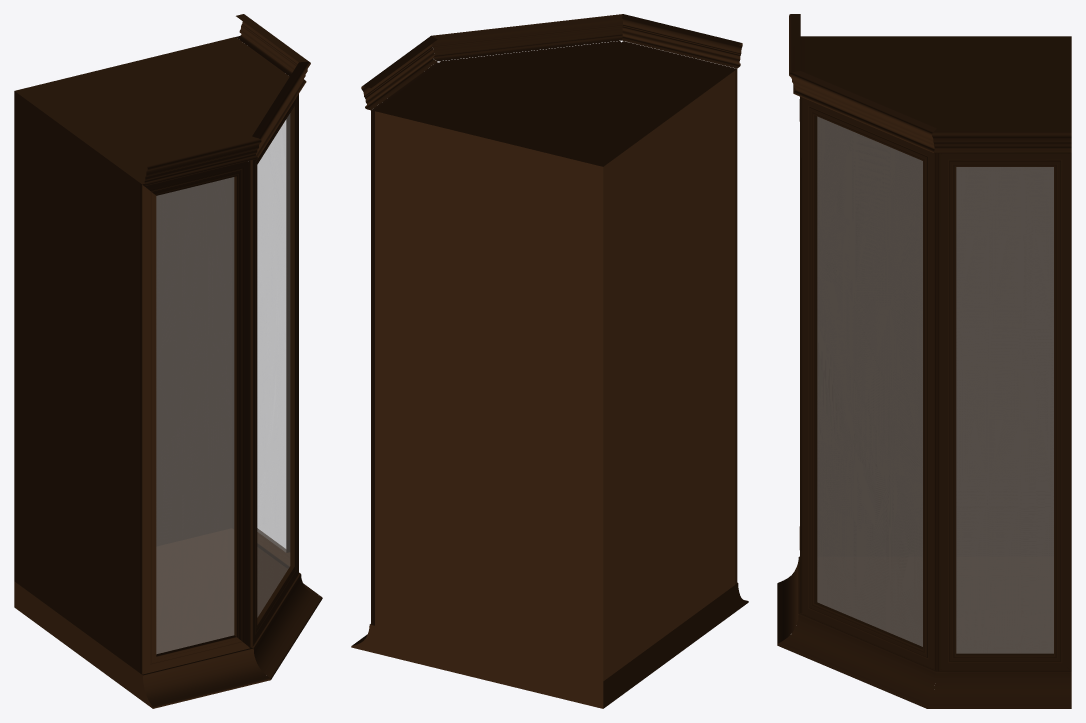
The model's file is sweethome3d-contributions-display-cabinet-239.glb.
3 renders of one model, left to right at view 1: azimuth 30°, elevation 25°; view 2: azimuth 150°, elevation 25°; view 3: azimuth 270°, elevation 25°, orthographic. The views are drawn at different scales.
Parts seen in each view (by area): view 1: DisplayCabinet_24, DisplayCabinet_27, DisplayCabinet_23, DisplayCabinet_21, DisplayCabinet_26, DisplayCabinet_25, DisplayCabinet_22, DisplayCabinet_4, DisplayCabinet_1, DisplayCabinet_14, DisplayCabinet_12, DisplayCabinet_9 (+11 smaller); view 2: DisplayCabinet_23, DisplayCabinet_24, DisplayCabinet_21, DisplayCabinet_17, DisplayCabinet_18, DisplayCabinet_16, DisplayCabinet_20, DisplayCabinet_19, DisplayCabinet_5, DisplayCabinet_4; view 3: DisplayCabinet_24, DisplayCabinet_26, DisplayCabinet_25, DisplayCabinet_21, DisplayCabinet_22, DisplayCabinet_8, DisplayCabinet_5, DisplayCabinet_9, DisplayCabinet_12, DisplayCabinet_13, DisplayCabinet_15, DisplayCabinet_18 (+8 smaller).
Part boxes in pixels (left/top/right/bottom): DisplayCabinet_24: left=14, top=91, right=139, bottom=672; DisplayCabinet_27: left=156, top=177, right=233, bottom=653; DisplayCabinet_23: left=143, top=177, right=231, bottom=546; DisplayCabinet_21: left=15, top=38, right=287, bottom=182; DisplayCabinet_26: left=257, top=114, right=289, bottom=616; DisplayCabinet_25: left=257, top=121, right=285, bottom=551; DisplayCabinet_22: left=156, top=528, right=287, bottom=653; DisplayCabinet_4: left=140, top=183, right=156, bottom=674; DisplayCabinet_1: left=234, top=160, right=250, bottom=647; DisplayCabinet_14: left=142, top=647, right=270, bottom=708; DisplayCabinet_12: left=290, top=94, right=298, bottom=573; DisplayCabinet_9: left=250, top=159, right=257, bottom=646; DisplayCabinet_23: left=375, top=111, right=603, bottom=681; DisplayCabinet_24: left=603, top=71, right=734, bottom=680; DisplayCabinet_21: left=375, top=42, right=734, bottom=166; DisplayCabinet_17: left=351, top=624, right=603, bottom=708; DisplayCabinet_18: left=431, top=14, right=622, bottom=61; DisplayCabinet_16: left=603, top=583, right=748, bottom=708; DisplayCabinet_20: left=622, top=14, right=742, bottom=68; DisplayCabinet_19: left=361, top=36, right=437, bottom=110; DisplayCabinet_5: left=371, top=110, right=374, bottom=625; DisplayCabinet_4: left=735, top=69, right=737, bottom=584; DisplayCabinet_24: left=817, top=116, right=1053, bottom=556; DisplayCabinet_26: left=817, top=117, right=922, bottom=646; DisplayCabinet_25: left=956, top=167, right=1053, bottom=653; DisplayCabinet_21: left=805, top=36, right=1071, bottom=128; DisplayCabinet_22: left=817, top=556, right=1069, bottom=669; DisplayCabinet_8: left=938, top=153, right=956, bottom=670; DisplayCabinet_5: left=1054, top=153, right=1071, bottom=670; DisplayCabinet_9: left=801, top=97, right=817, bottom=613; DisplayCabinet_12: left=923, top=153, right=938, bottom=670; DisplayCabinet_13: left=777, top=613, right=937, bottom=708; DisplayCabinet_15: left=927, top=670, right=1071, bottom=708; DisplayCabinet_18: left=789, top=71, right=936, bottom=152.
Size of the model in its own units: 84.07 by 180 by 84.07.
